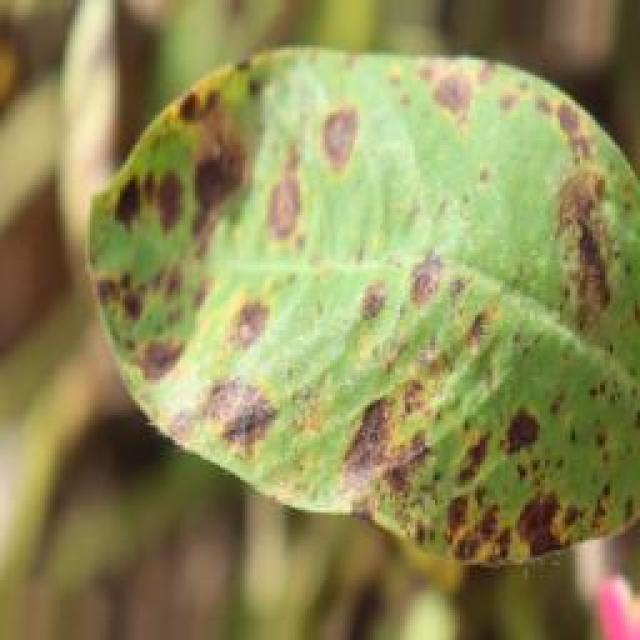Yellowish: (87, 47, 640, 562)
